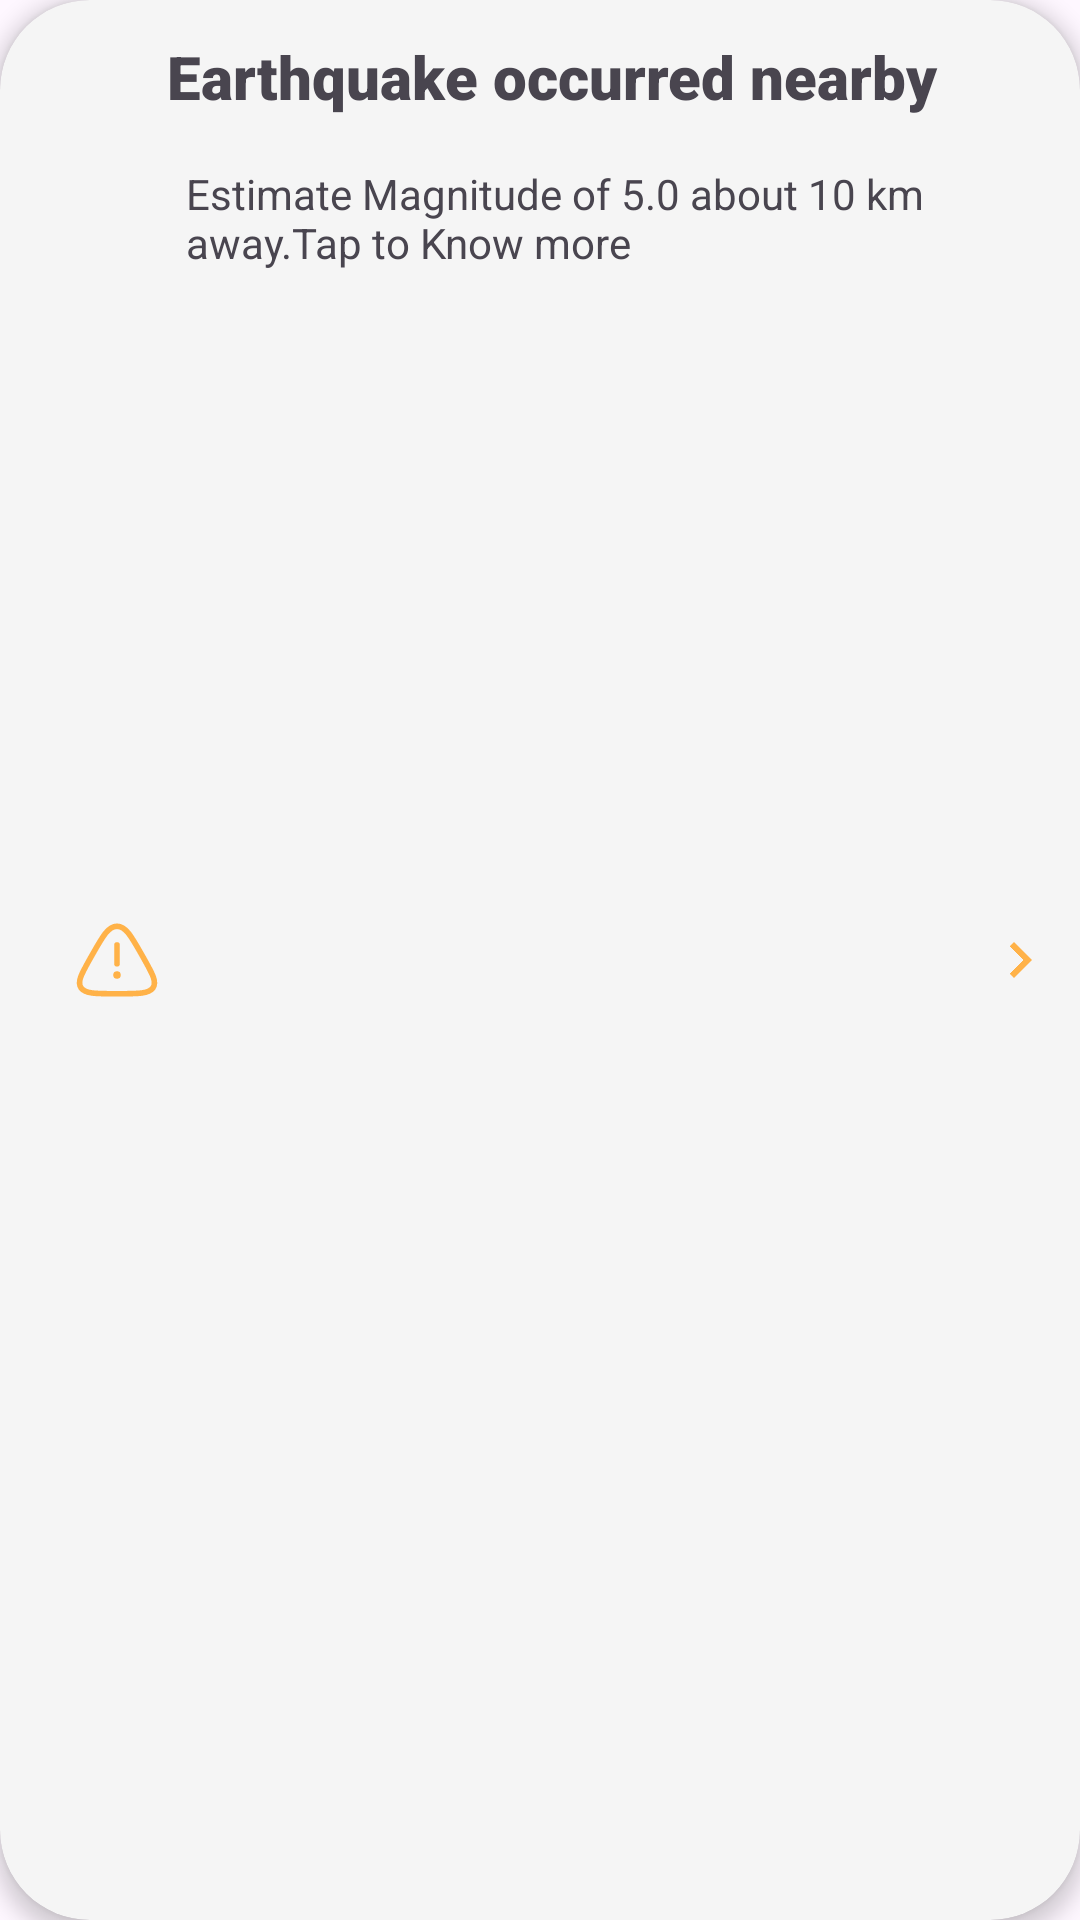

Where icons sit on this 1080 × 1920 app screen, as bbox=(x1, y1, x2, y2):
chevron right: bbox=(1010, 942, 1032, 978)
danger triangle: bbox=(76, 923, 158, 997)
